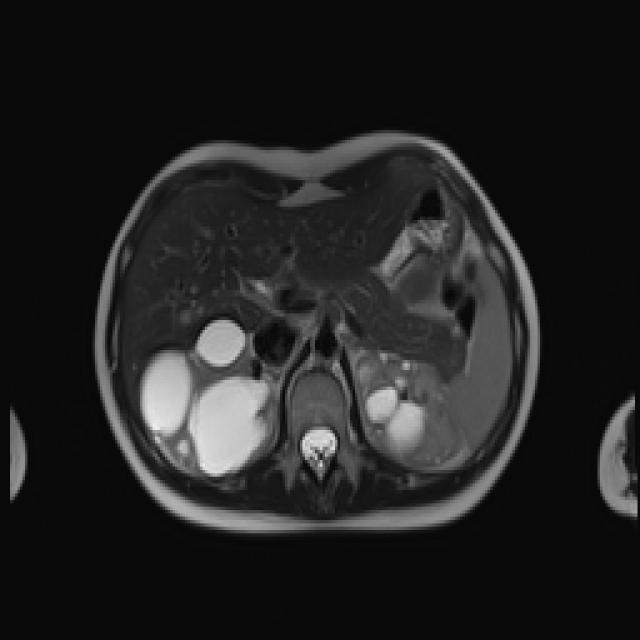sag: (137, 319, 278, 478)
sol: (351, 348, 465, 470)
